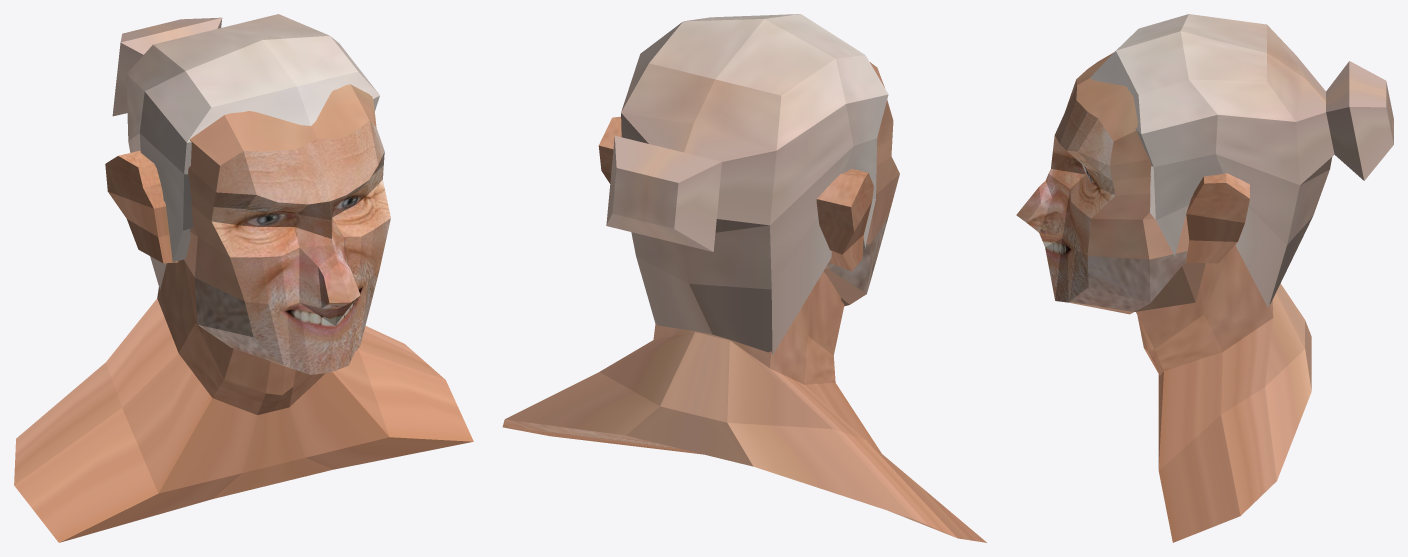
File: Old.fbx
3 views of the same model, side by side, from view 1: azimuth 30°, elevation 25°; view 2: azimuth 150°, elevation 25°; view 3: azimuth 270°, elevation 25° (orthographic). The views are drawn at different scales.
Visible parts, largest first — view 1: OldFace.001; view 2: OldFace.001; view 3: OldFace.001.
Part boxes in pixels (x1,y1,x2,y2): OldFace.001: (14, 14, 473, 542); OldFace.001: (502, 14, 986, 542); OldFace.001: (1016, 14, 1393, 542).
Bounding box in the file's own units: 182 × 181 × 149.
